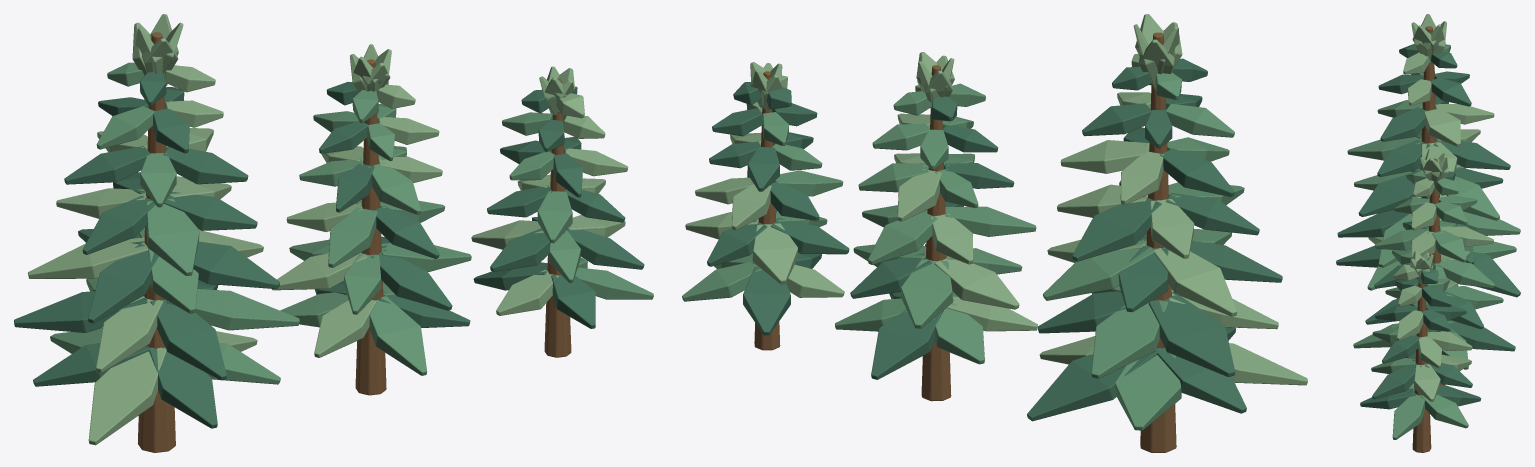
Rendered from VegetationRepresentativeFamilyV1.glb.
The picture shows the model from 3 angles, left to right: view 1: azimuth 30°, elevation 25°; view 2: azimuth 150°, elevation 25°; view 3: azimuth 270°, elevation 25°; orthographic projection. The views are drawn at different scales.
Visible parts, largest first — view 1: Tree_Primary, Tree_Secondary, Tree_SecondaryB; view 2: Tree_Primary, Tree_Secondary, Tree_SecondaryB; view 3: Tree_Primary, Tree_SecondaryB, Tree_Secondary.
Boxes of the visible parts, x1=… form: Tree_Primary: x1=14, y1=14, x2=299, y2=452; Tree_Secondary: x1=271, y1=44, x2=471, y2=395; Tree_SecondaryB: x1=471, y1=66, x2=653, y2=357; Tree_Primary: x1=1027, y1=14, x2=1307, y2=452; Tree_Secondary: x1=835, y1=52, x2=1037, y2=401; Tree_SecondaryB: x1=682, y1=62, x2=849, y2=350; Tree_Primary: x1=1336, y1=14, x2=1520, y2=297; Tree_SecondaryB: x1=1360, y1=251, x2=1481, y2=452; Tree_Secondary: x1=1353, y1=149, x2=1515, y2=385.
Bounding box in the file's own units: 13.08 × 9.07 × 5.16.
